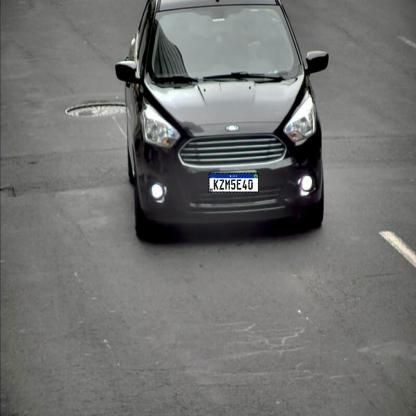PlacaM: (208, 172, 259, 192)
